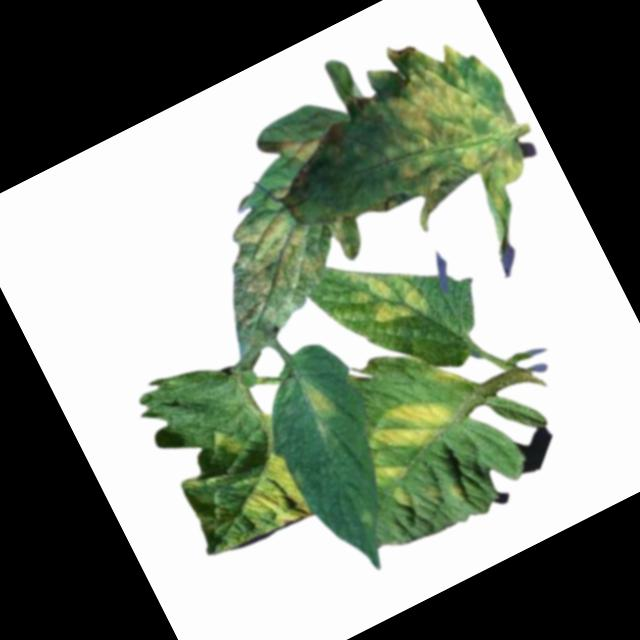Leaf_Mold: (350, 31, 548, 245), (203, 198, 338, 329), (340, 242, 439, 342), (225, 448, 316, 545), (365, 382, 460, 463), (366, 452, 425, 518), (324, 209, 372, 265), (277, 125, 329, 173), (296, 373, 339, 427), (207, 419, 247, 463)
